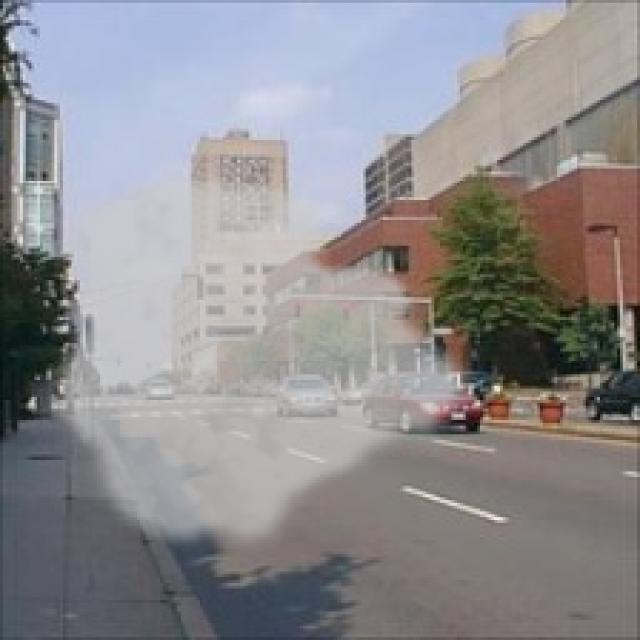Smoke: (52, 168, 477, 558)
